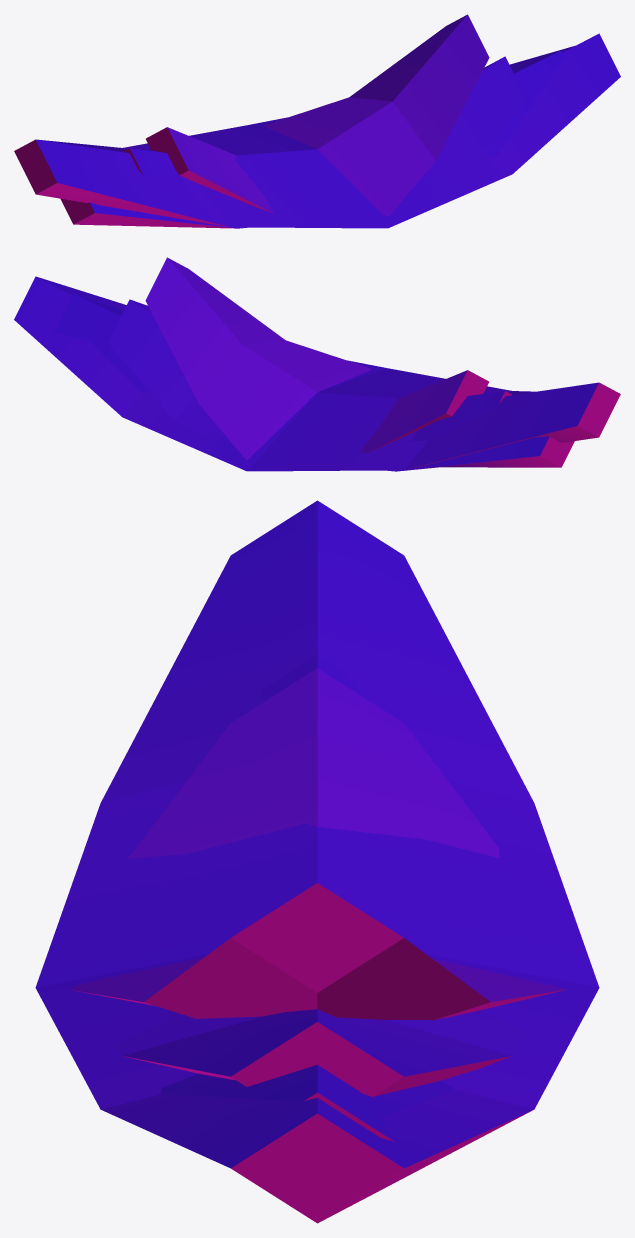
The model's file is drift_kit.glb.
The picture shows the model from 3 angles, top to bottom: view 1: azimuth 30°, elevation 25°; view 2: azimuth 150°, elevation 25°; view 3: azimuth 270°, elevation 25°; orthographic projection. The views are drawn at different scales.
Parts seen in each view (by area): view 1: leaf_laurel, petal_b, petal_a, leaf_ash; view 2: leaf_laurel, petal_b, petal_a, leaf_ash; view 3: leaf_laurel, petal_b, petal_a, leaf_ash.
Boxes of the visible parts, x1,y1,x2,y2 form: leaf_laurel: (14,33,620,228); petal_b: (146,14,489,216); petal_a: (123,56,526,184); leaf_ash: (60,50,564,228); leaf_laurel: (14,276,620,471); petal_b: (145,257,488,460); petal_a: (108,299,512,440); leaf_ash: (54,293,574,471); leaf_laurel: (35,500,599,1223); petal_b: (68,668,567,1020); petal_a: (115,655,527,1096); leaf_ash: (161,1064,455,1141).
Size of the model in its own units: 0.15 by 0.039 by 0.065.
